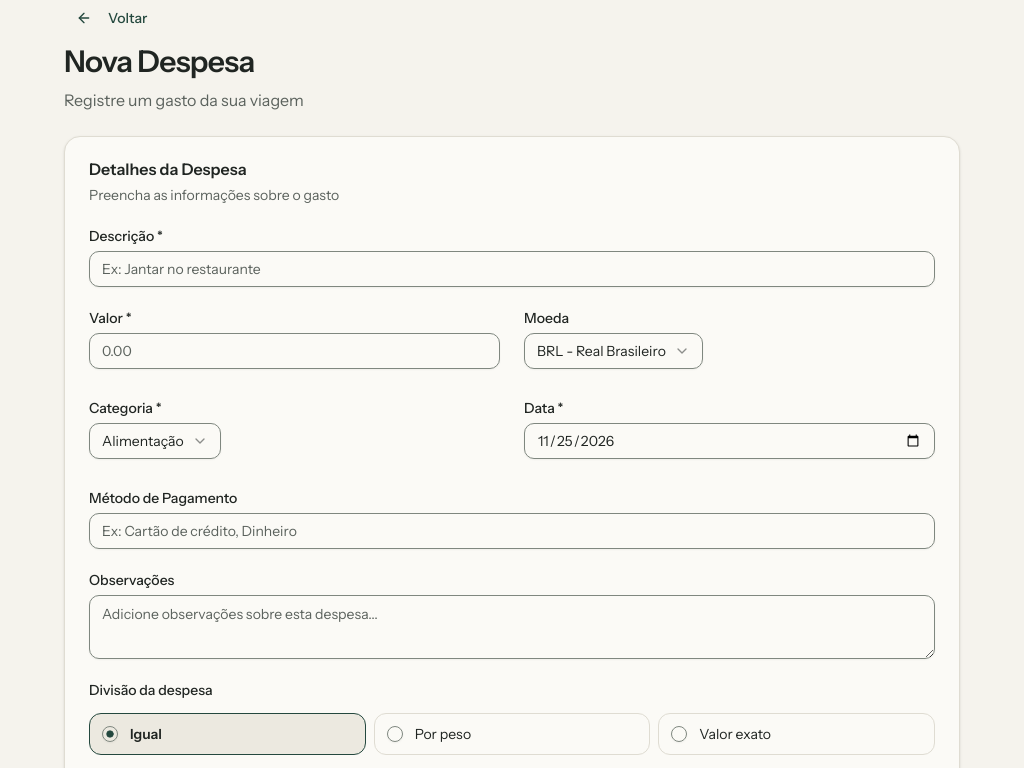
Test: Nova despesa — divisão igual › tirar um participante redistribui entre os que ficaram; nenhum selecionado bloqueia
Expected: the heading "Nova Despesa" is shown, [64,43,255,80]
Type "Jantar" into the field labelled "Descrição *" at [512, 269], box [89,251,935,287]
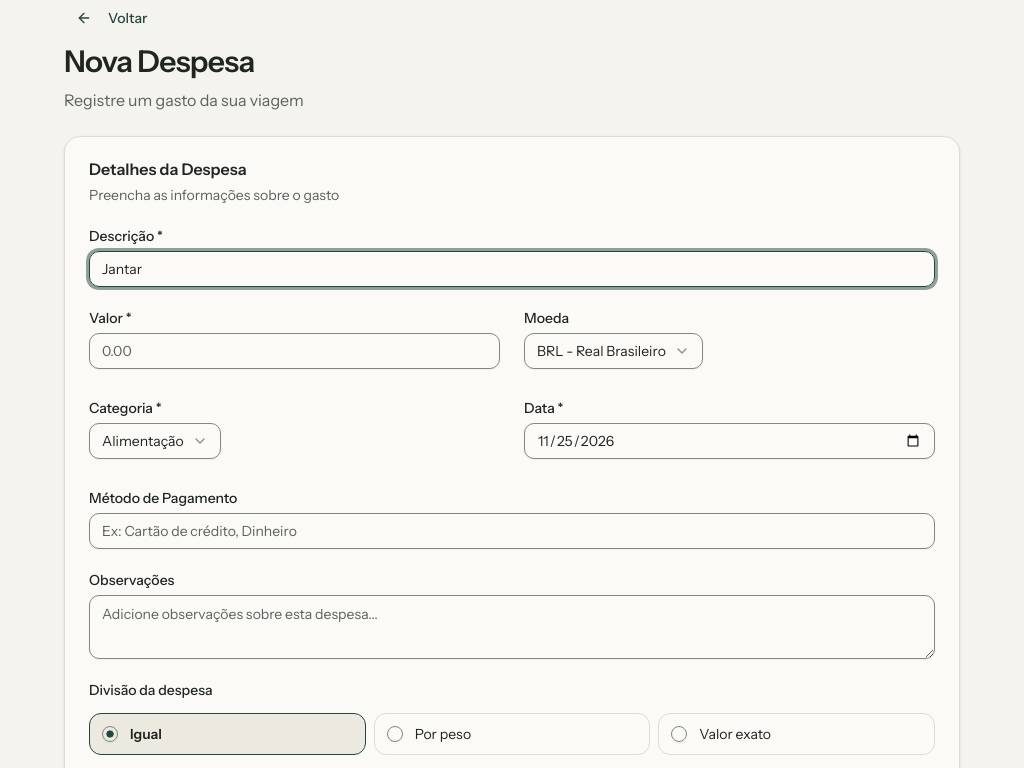
Type "10" into the number field labelled "Valor *" at [294, 351], box [89,333,500,369]
(page scrolled)
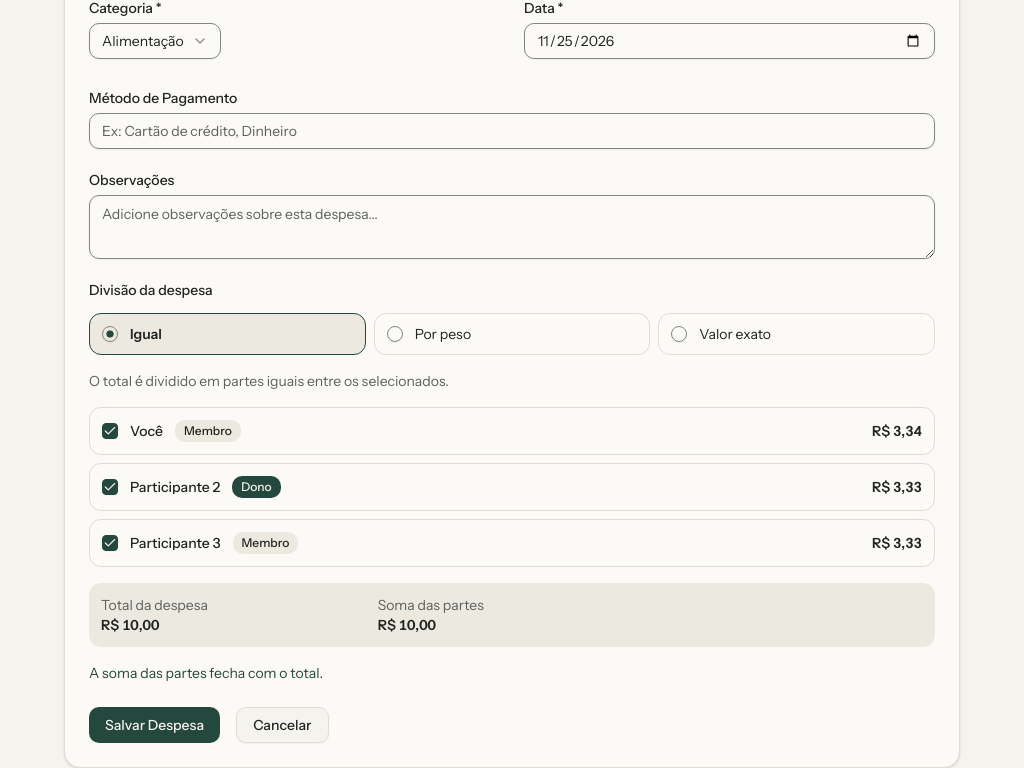
Click the checkbox named "Incluir Participante 3 no rateio" at [110, 543], box [102,535,118,551]
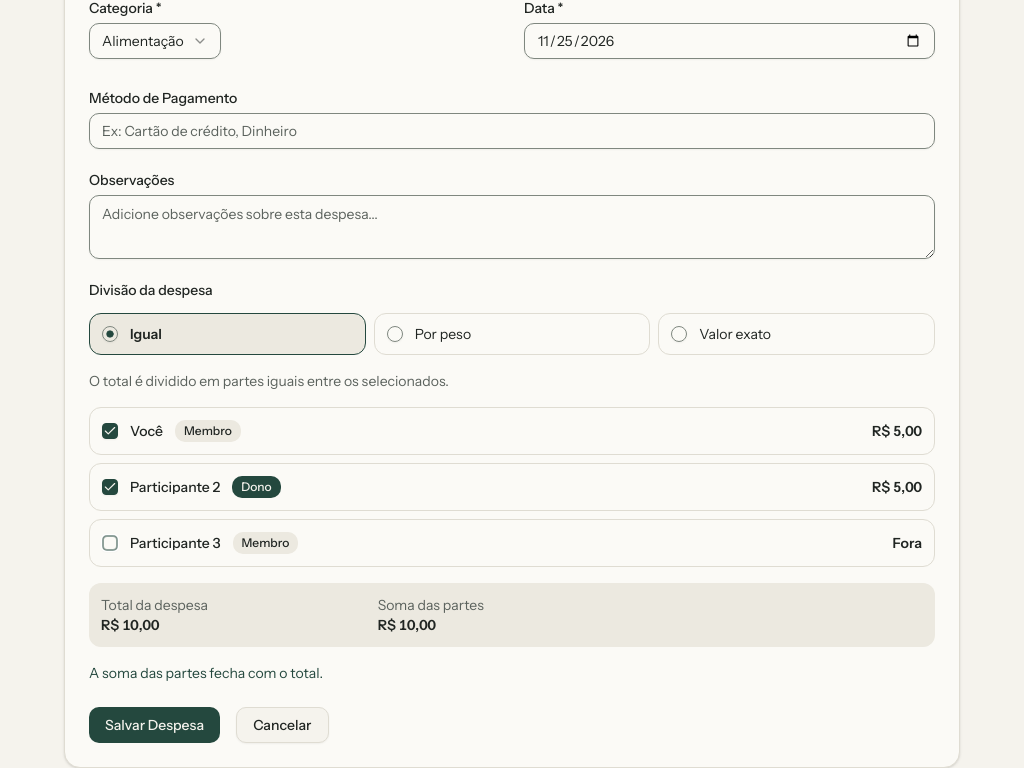
Click the checkbox named "Incluir Você no rateio" at [110, 431], box [102,423,118,439]
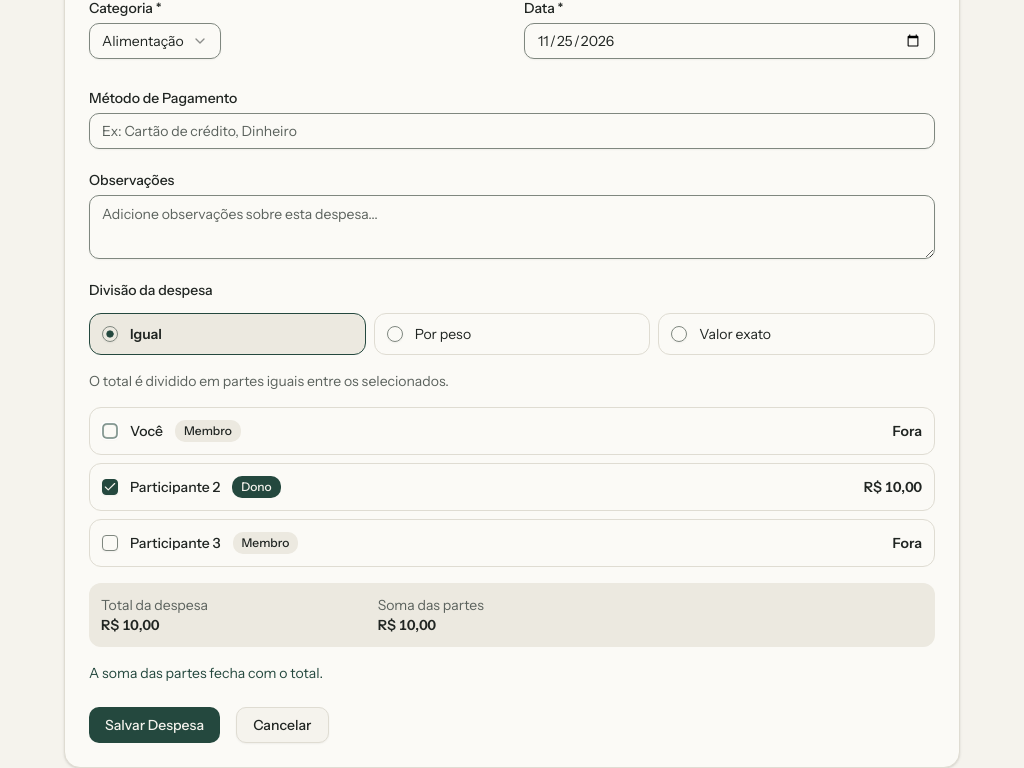
Click the checkbox named "Incluir Participante 2 no rateio" at [110, 487], box [102,479,118,495]
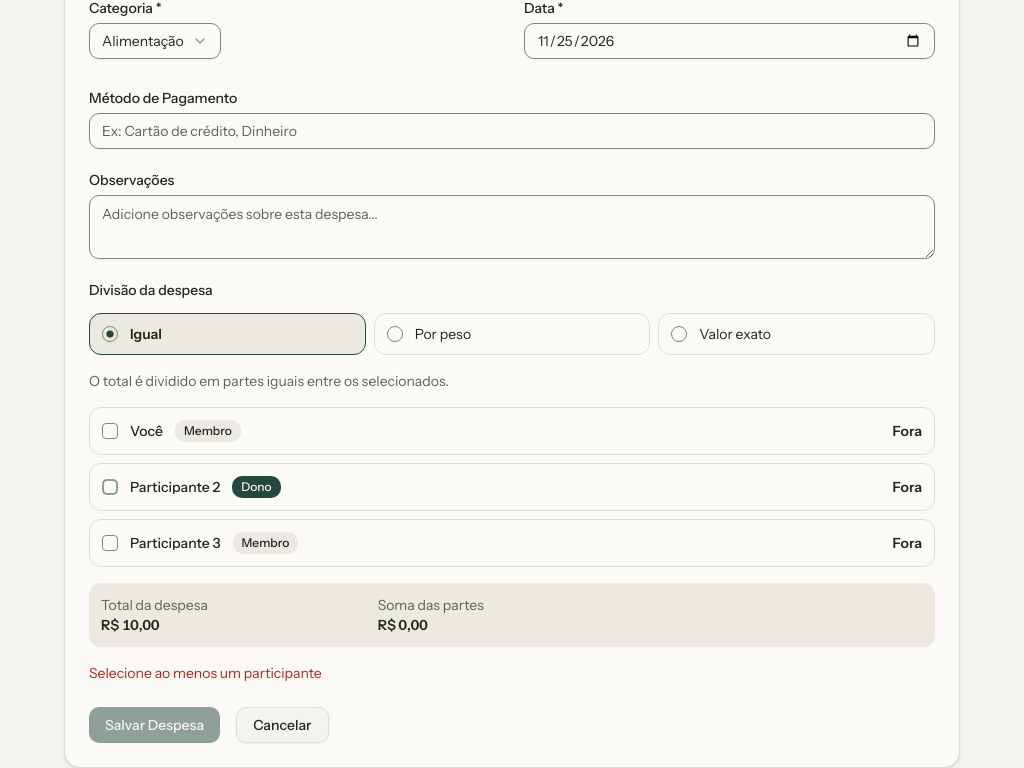
Now the text "Selecione ao menos um participante" is shown, box [89,664,322,682]
Now the button "Salvar Despesa" is disabled, box [89,707,220,743]
